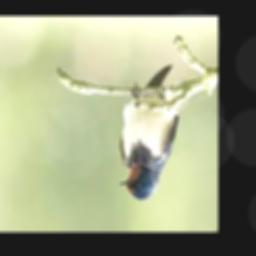Swallow: (118, 65, 178, 200)
